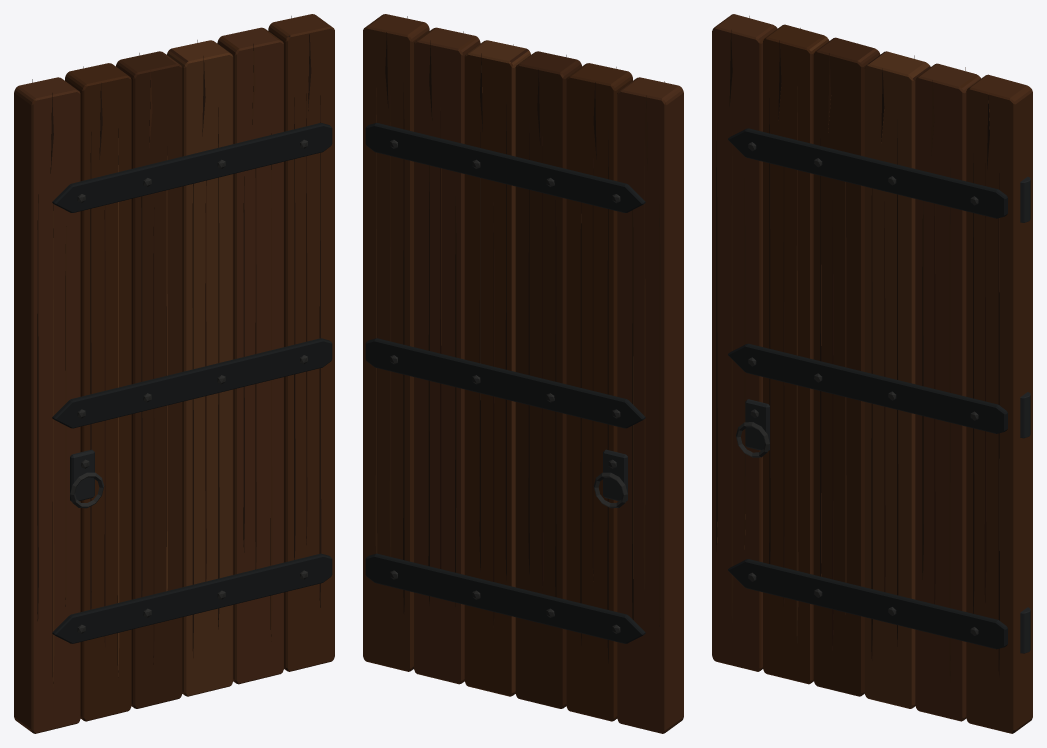
The model's file is DungeonDoorLeaf.fbx.
The picture shows the model from 3 angles, left to right: view 1: azimuth 30°, elevation 25°; view 2: azimuth 150°, elevation 25°; view 3: azimuth 330°, elevation 25°; orthographic projection.
Visible parts, largest first — view 1: DungeonDoorLeaf; view 2: DungeonDoorLeaf; view 3: DungeonDoorLeaf.
Boxes of the visible parts, x1,y1,x2,y2 form: DungeonDoorLeaf: (14, 14, 334, 733); DungeonDoorLeaf: (363, 14, 683, 733); DungeonDoorLeaf: (712, 14, 1032, 733).
Size of the model in its own units: 1.5 by 2.96 by 0.296.
Materials: 2 (2 with a texture image).
